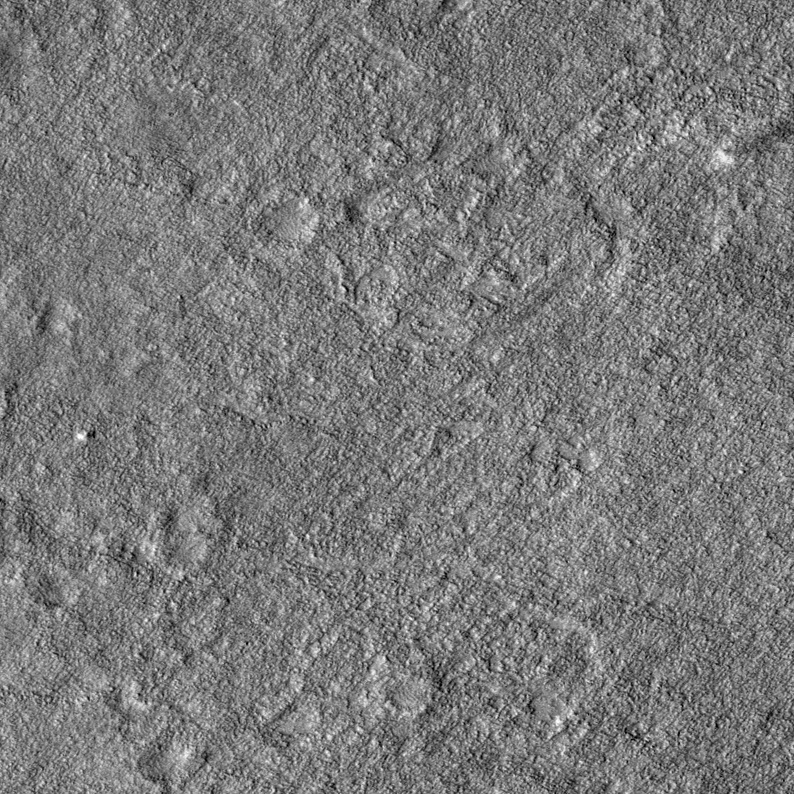dust_devil: (713, 117, 794, 168)
